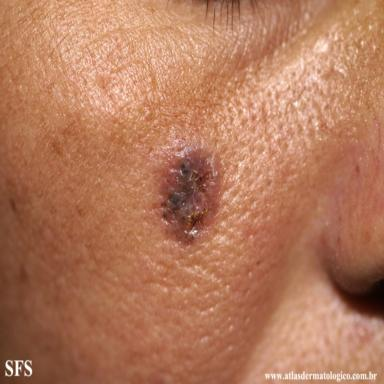basal-cell-carcinoma: (158, 145, 222, 244)
